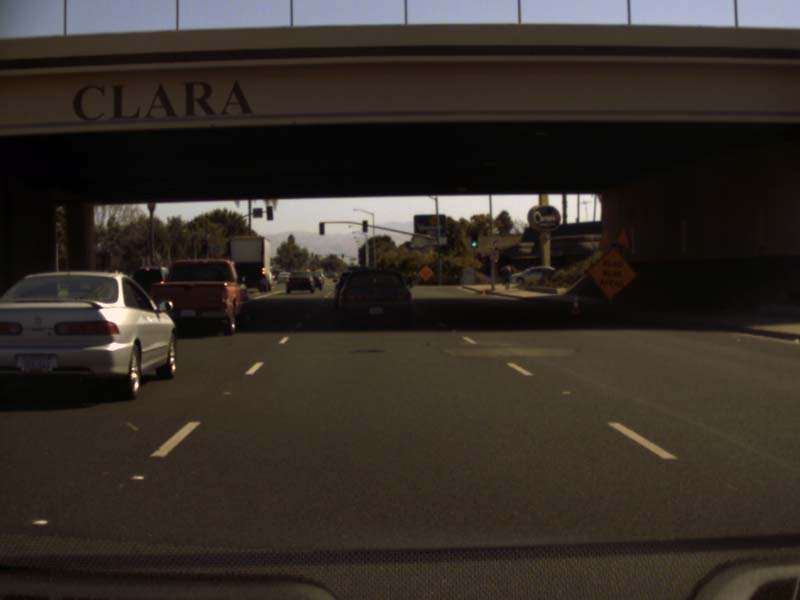Green: (471, 232, 478, 248), (362, 220, 367, 232), (438, 245, 443, 257), (319, 222, 323, 234)
